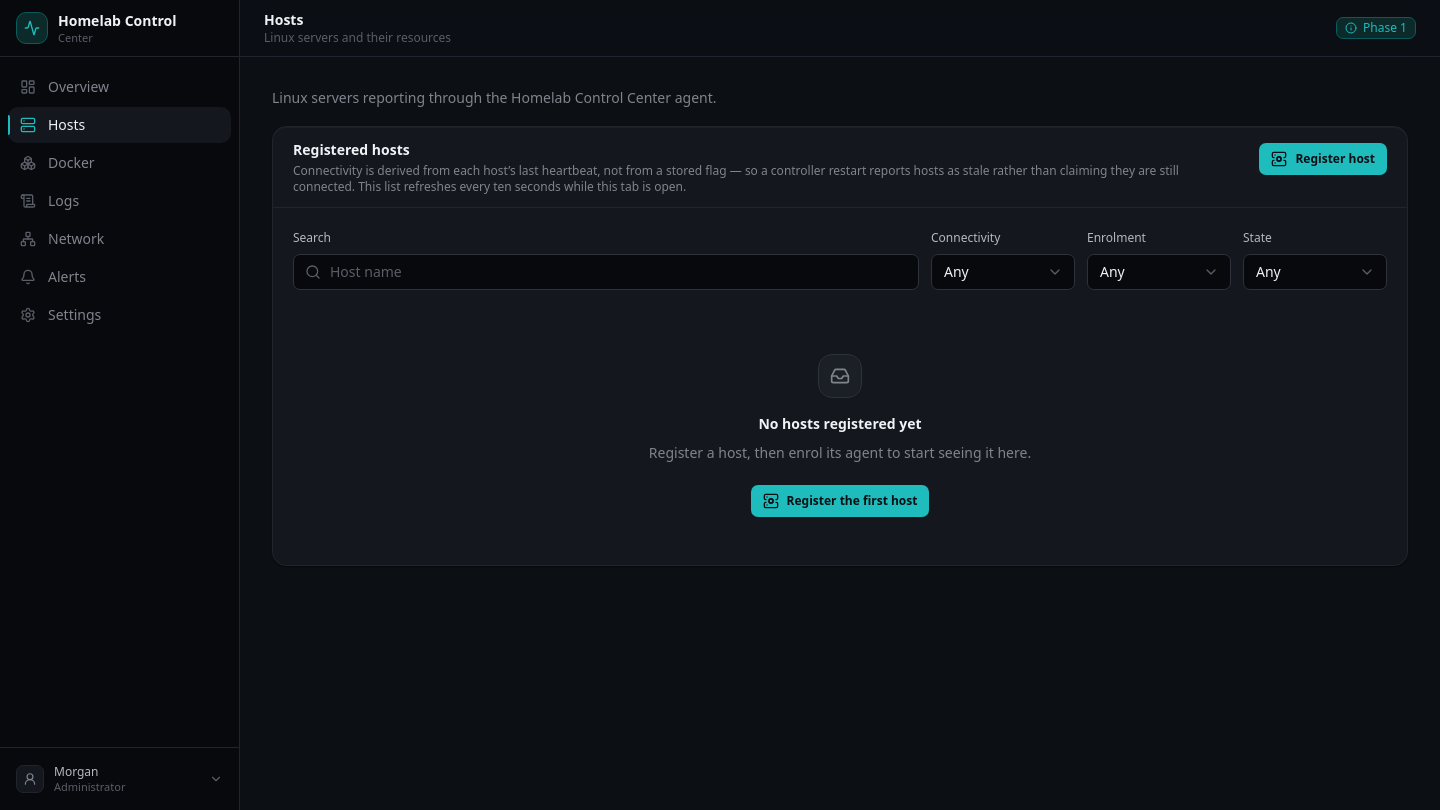
Test case: registering a host › creates the host and then offers to enrol it
Click the button "Register the first host" at coordinates (840, 500), box [750,484,929,516]
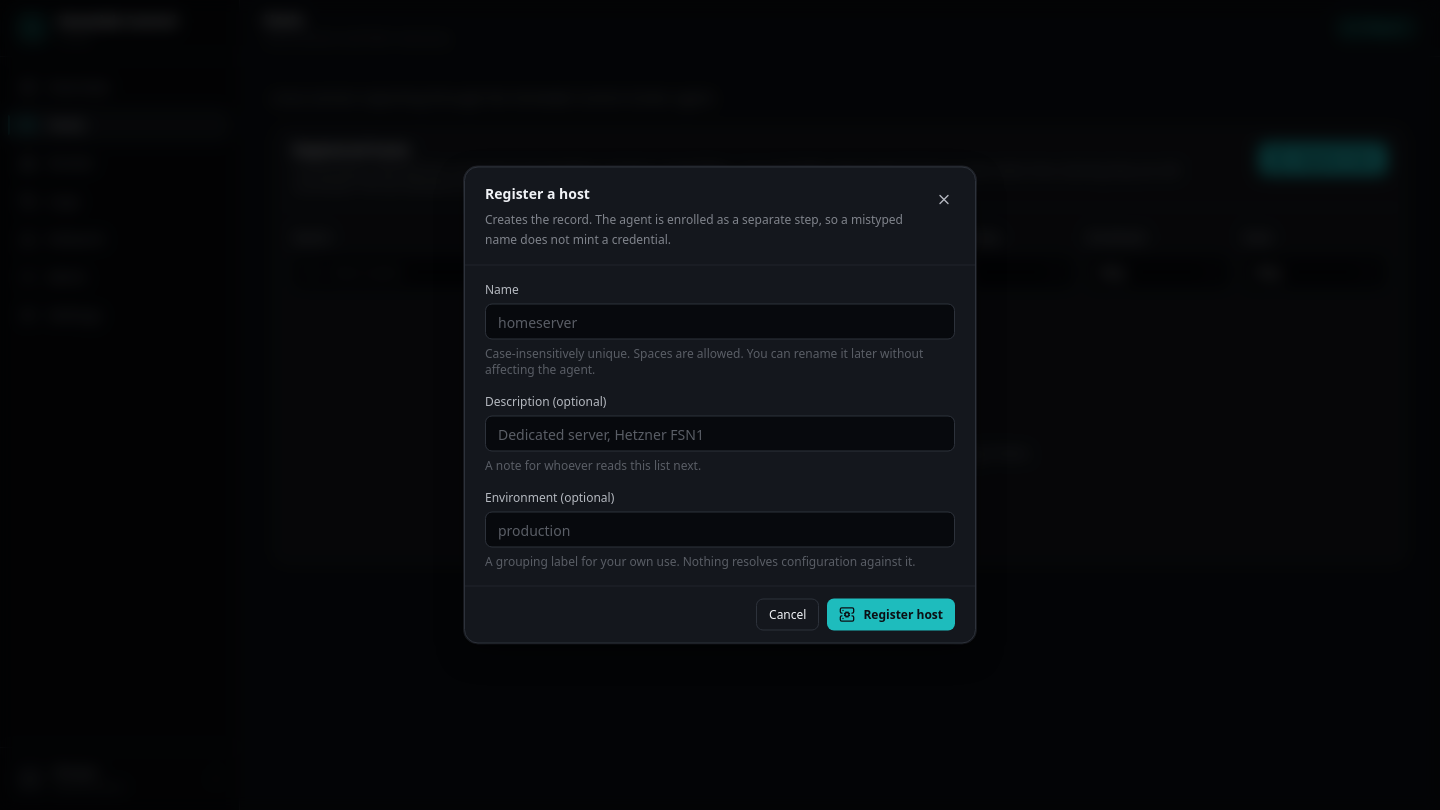
Type "new-host" into the field labelled "Name" at coordinates (720, 322), box [485,304,955,340]
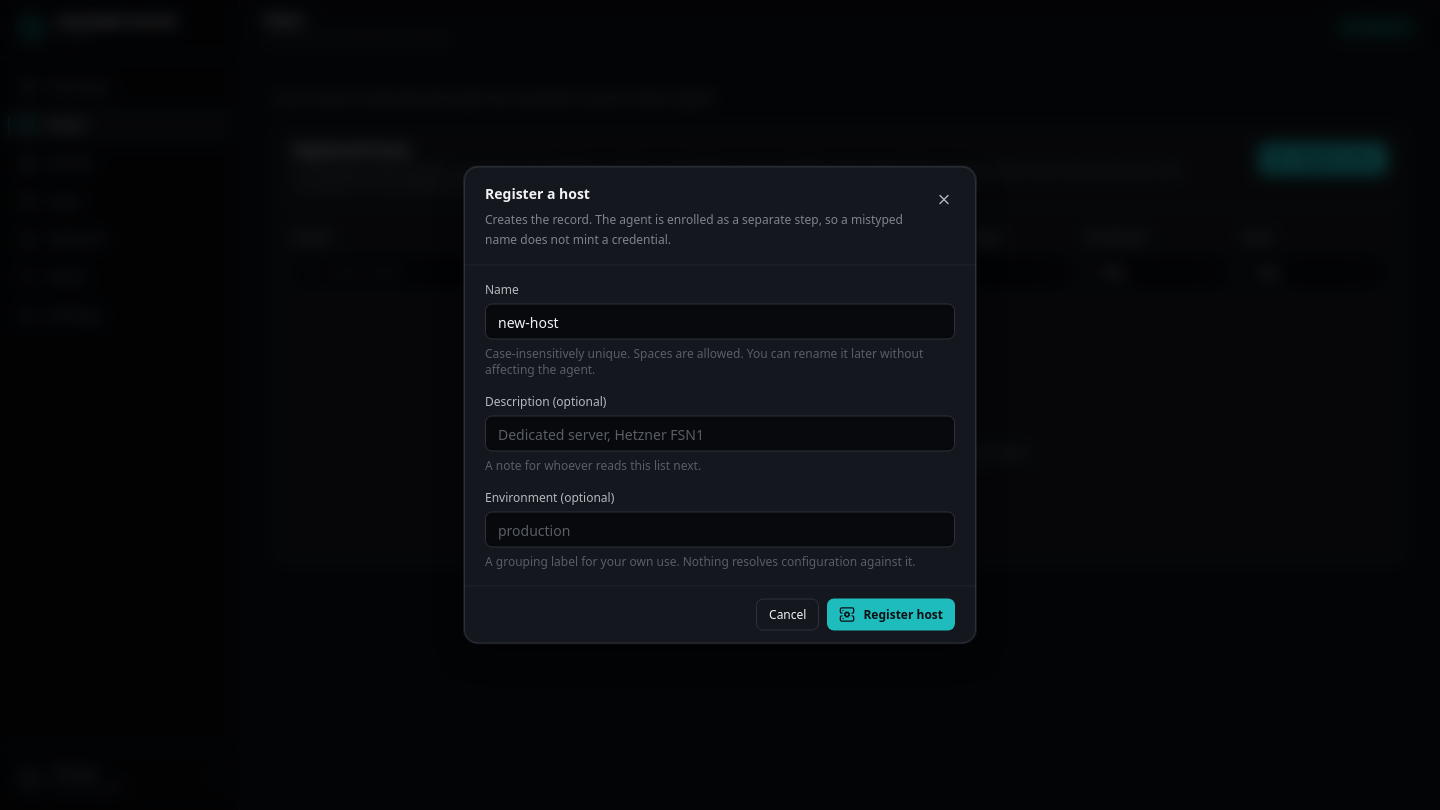
Click the button "Register host" at coordinates (891, 614), box [827,598,955,630]
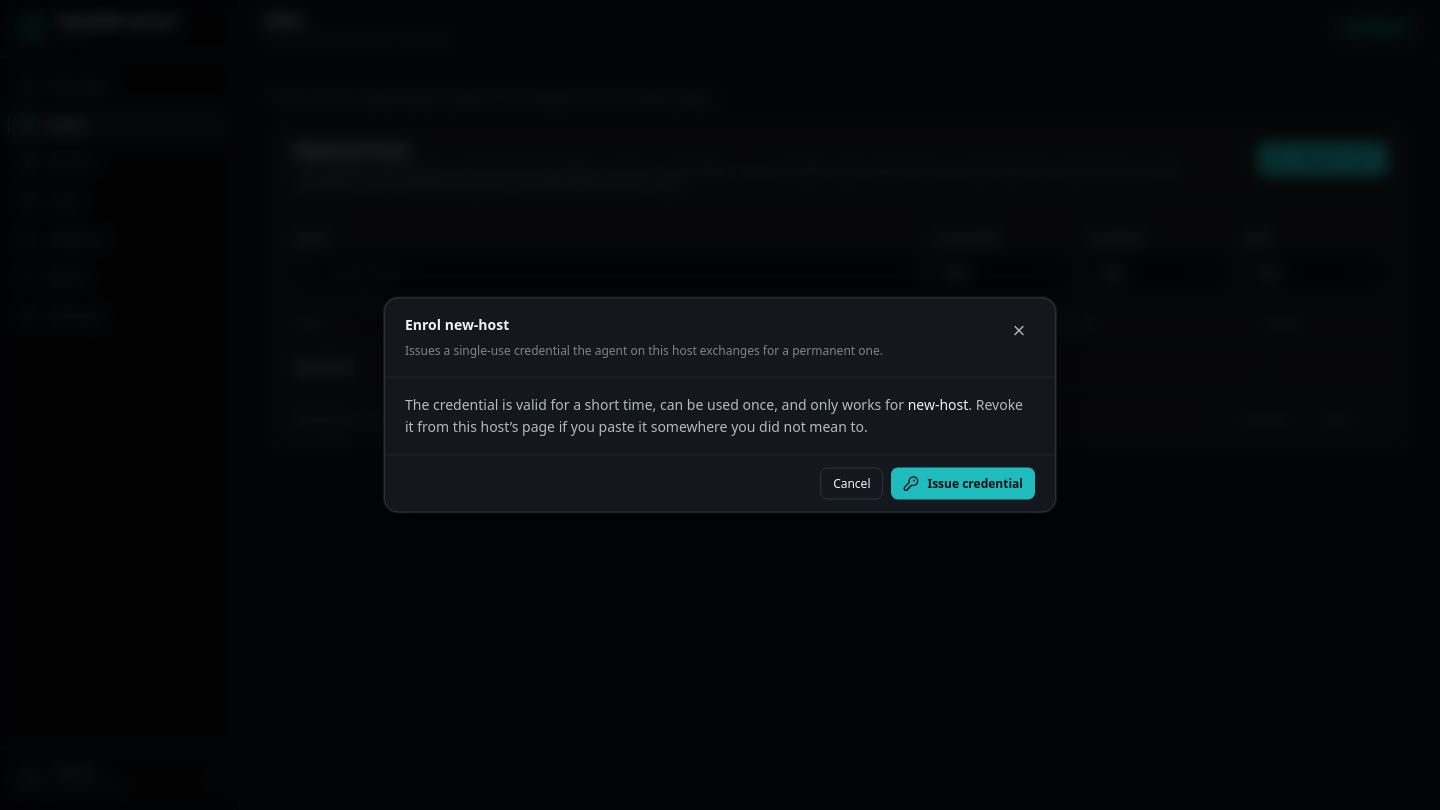
expect the heading "Enrol new-host" is shown: met, box [405,314,509,334]
expect the button "Issue credential" is shown: met, box [892,468,1035,500]
